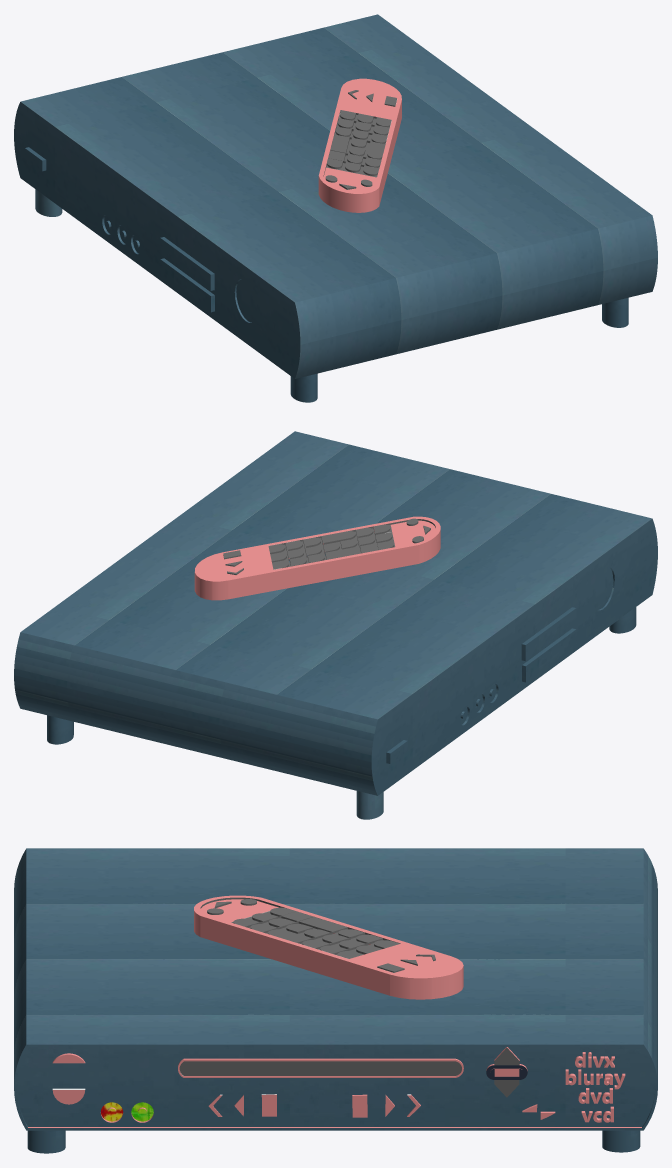
The picture shows the model from 3 angles, top to bottom: view 1: azimuth 30°, elevation 25°; view 2: azimuth 150°, elevation 25°; view 3: azimuth 270°, elevation 25°; orthographic projection. The views are drawn at different scales.
Visible parts, largest first — view 1: Mesh18_Model.001; view 2: Mesh18_Model.001; view 3: Mesh18_Model.001.
Part boxes in pixels (bbox=[...]): Mesh18_Model.001: bbox=[14, 14, 657, 402]; Mesh18_Model.001: bbox=[14, 431, 657, 819]; Mesh18_Model.001: bbox=[14, 848, 657, 1153].
Size of the model in its own units: 0.73 by 0.2422 by 0.9974.
Materials: 8 (3 with a texture image).
